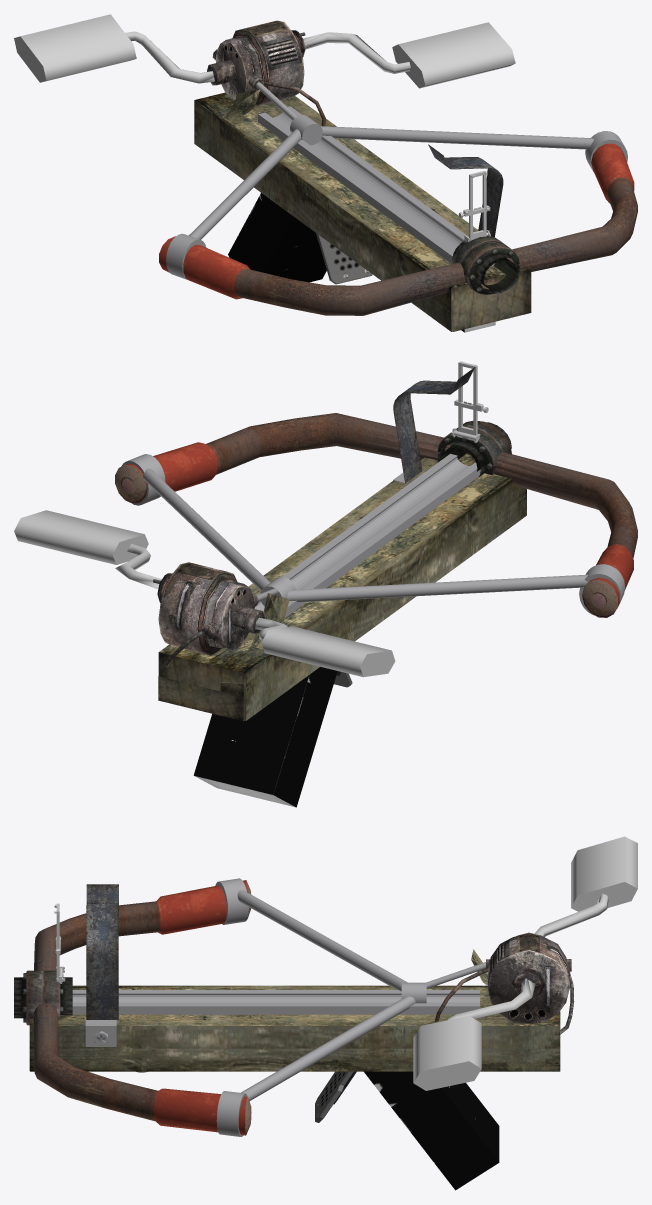
File: Makeshift Crossbow.fbx
3 renders of one model, top to bottom at view 1: azimuth 30°, elevation 25°; view 2: azimuth 150°, elevation 25°; view 3: azimuth 270°, elevation 25°, orthographic. The views are drawn at different scales.
Visible parts, largest first — view 1: Body, Prode, Cranks, Misc Wood, Rope Prode, Bolted Arrow Holder, Rope tided, Trigger, Sight, Quarrel; view 2: Body, Prode, Cranks, Misc Wood, Rope Prode, Bolted Arrow Holder, Rope tided, Sight; view 3: Body, Prode, Cranks, Misc Wood, Rope Prode, Bolted Arrow Holder, Rope tided, Trigger, Misc Metal.
Boxes of the visible parts, bbox=[...] form: Body: bbox=[194, 20, 531, 332]; Prode: bbox=[159, 143, 637, 315]; Cranks: bbox=[14, 14, 515, 88]; Misc Wood: bbox=[258, 106, 494, 266]; Rope Prode: bbox=[189, 126, 593, 239]; Bolted Arrow Holder: bbox=[452, 235, 520, 294]; Rope tided: bbox=[166, 131, 627, 280]; Trigger: bbox=[316, 233, 372, 284]; Sight: bbox=[458, 170, 490, 242]; Quarrel: bbox=[290, 115, 322, 145]; Body: bbox=[153, 367, 526, 807]; Prode: bbox=[115, 413, 637, 617]; Cranks: bbox=[14, 510, 395, 677]; Misc Wood: bbox=[249, 453, 480, 634]; Rope Prode: bbox=[143, 468, 587, 602]; Bolted Arrow Holder: bbox=[437, 421, 511, 477]; Rope tided: bbox=[121, 454, 625, 615]; Sight: bbox=[451, 361, 488, 442]; Body: bbox=[29, 884, 574, 1190]; Prode: bbox=[33, 880, 251, 1135]; Cranks: bbox=[413, 836, 637, 1090]; Misc Wood: bbox=[72, 990, 479, 1014]; Rope Prode: bbox=[237, 890, 415, 1101]; Bolted Arrow Holder: bbox=[14, 970, 72, 1025]; Rope tided: bbox=[215, 878, 248, 1136]; Trigger: bbox=[315, 1071, 356, 1122]; Misc Metal: bbox=[85, 1020, 147, 1072].
Size of the model in its own units: 4958 by 2766 by 5645.
